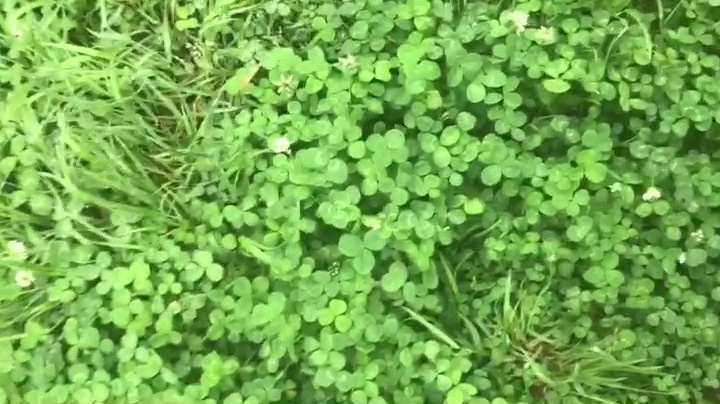4-clover: (364, 126, 412, 171)
